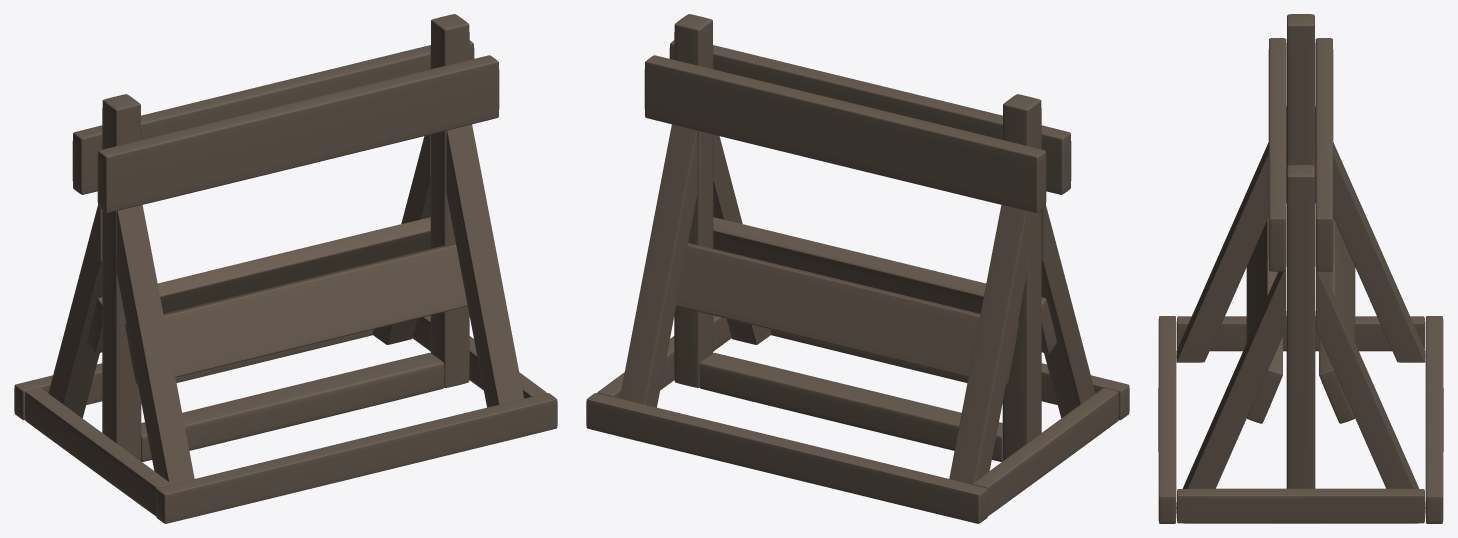
File: toolstand.fbx
3 views of the same model, side by side, from view 1: azimuth 30°, elevation 25°; view 2: azimuth 150°, elevation 25°; view 3: azimuth 270°, elevation 25° (orthographic). The views are drawn at different scales.
Parts seen in each view (by area): view 1: ToolStand; view 2: ToolStand; view 3: ToolStand.
Part boxes in pixels (bbox=[...]): ToolStand: bbox=[14, 14, 557, 523]; ToolStand: bbox=[586, 14, 1129, 523]; ToolStand: bbox=[1158, 14, 1443, 523].
Size of the model in its own units: 4.69 by 4.1 by 3.12.
